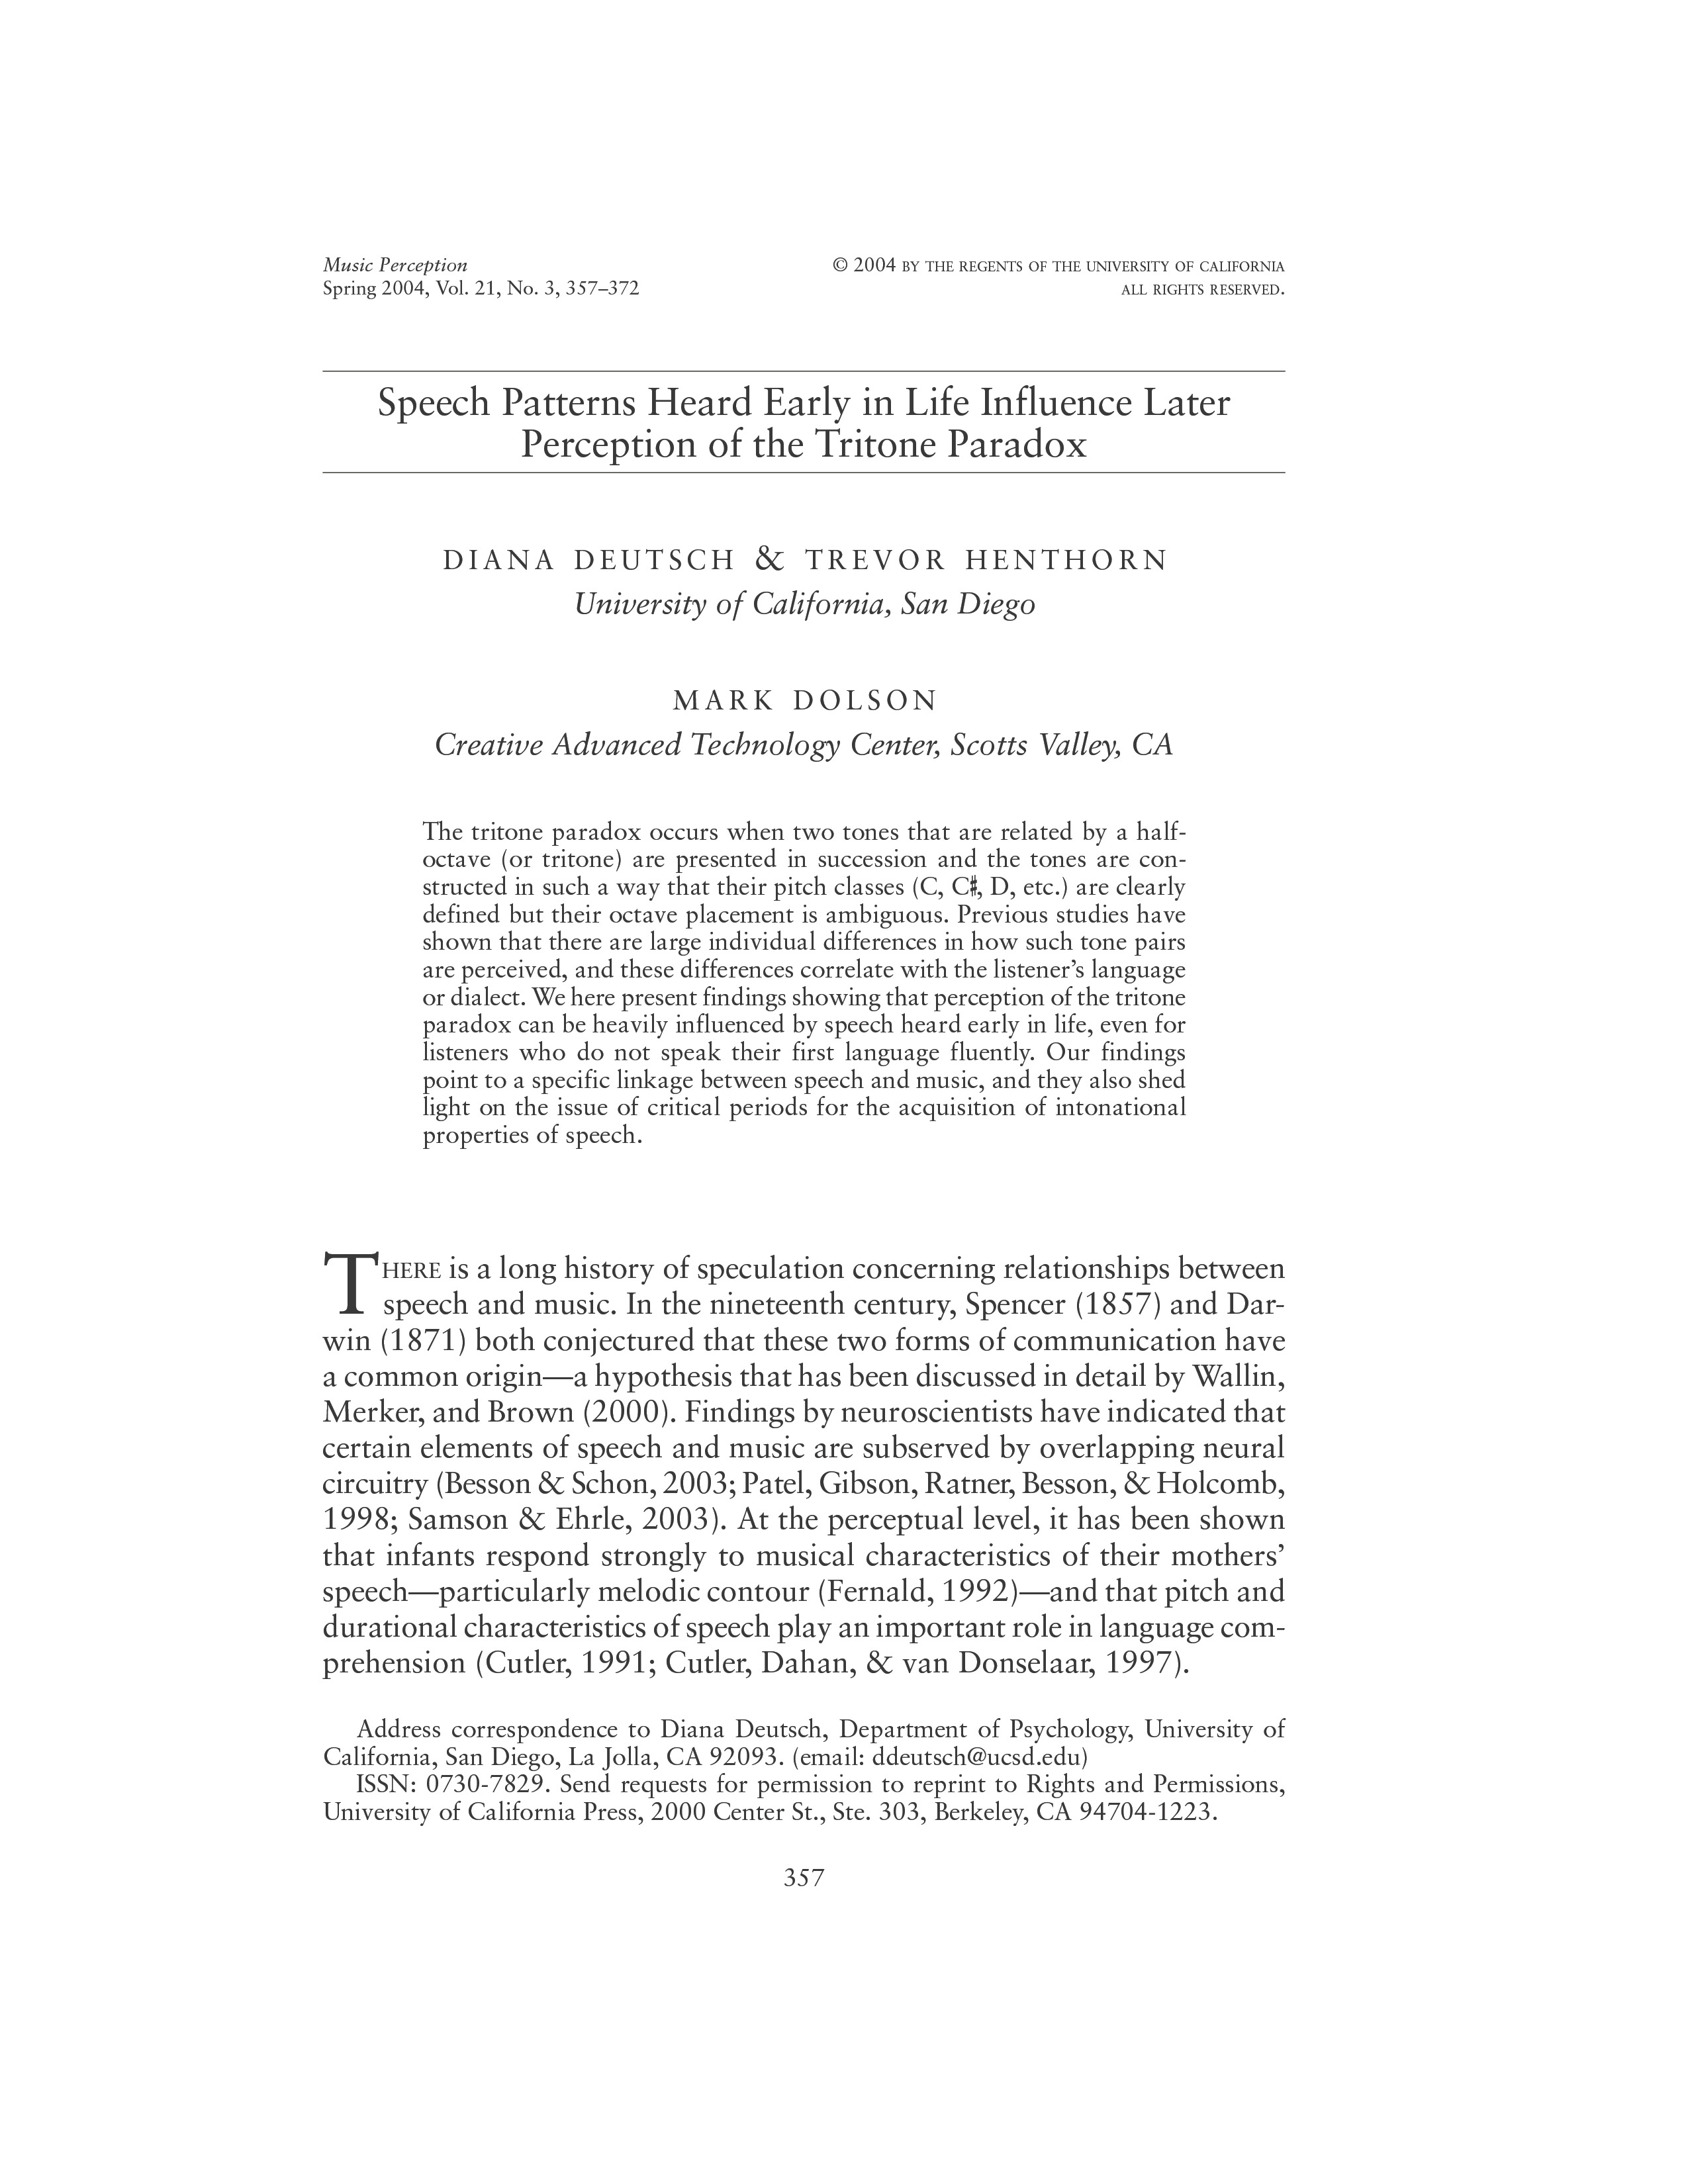section: (372, 379, 1252, 456), (429, 530, 1176, 613), (656, 667, 940, 720)
text: (310, 1239, 1286, 1695), (402, 823, 1190, 1156), (316, 1714, 1301, 1842), (426, 727, 1176, 776)
